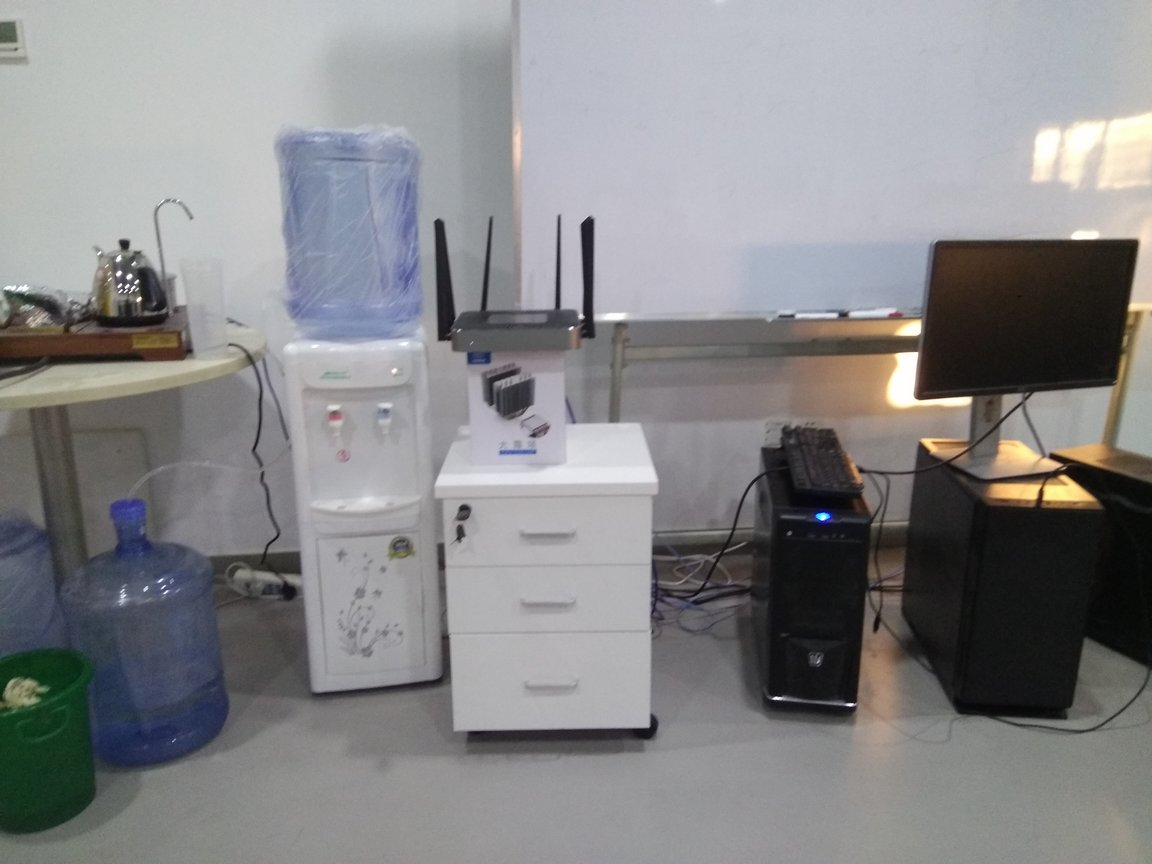computer: (918, 425, 1097, 749), (749, 435, 870, 744)
drawer chest: (432, 421, 671, 749)
monitor: (914, 230, 1134, 485)
scuttlebutt: (76, 490, 229, 763), (283, 118, 428, 330), (1, 530, 80, 738)
water dispenser: (279, 327, 451, 708)
